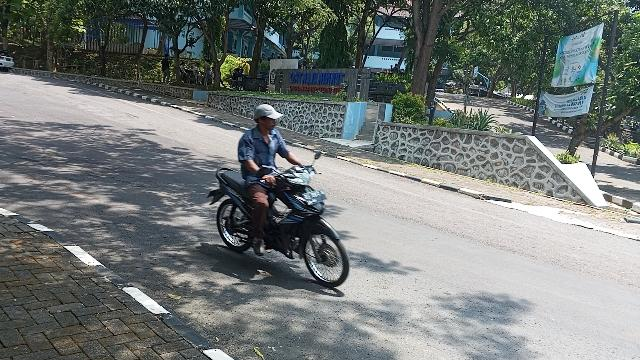motor: (207, 150, 353, 290)
non-helm: (254, 103, 287, 134)
